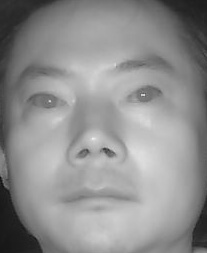eye: (25, 88, 68, 114), (125, 83, 164, 108)
mouth: (60, 177, 137, 216)
